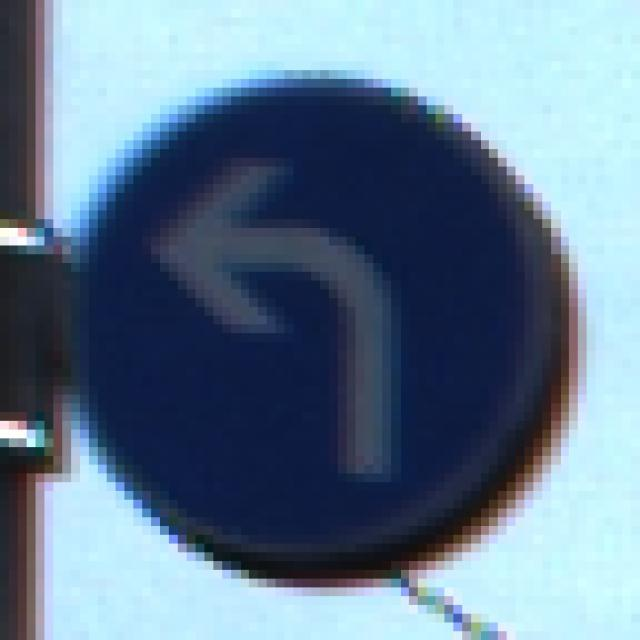compulsary turn left ahead: (72, 72, 581, 557)
